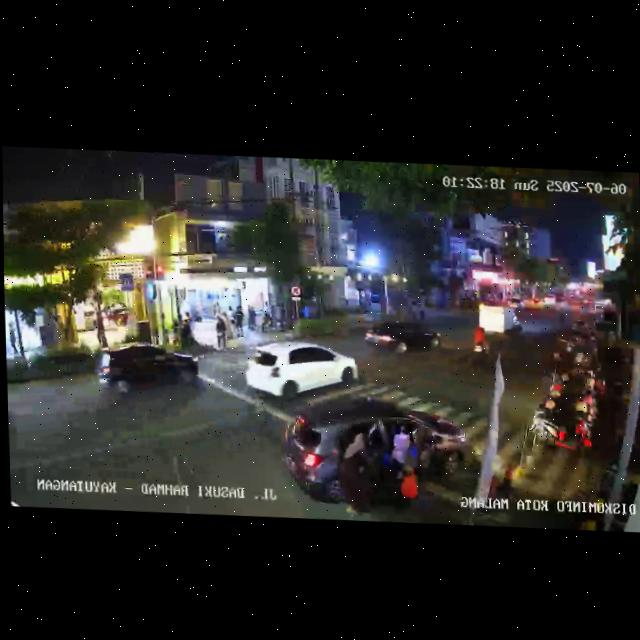car: (280, 393, 475, 513), (244, 336, 359, 408), (96, 339, 200, 401), (362, 317, 441, 359), (478, 304, 524, 341), (508, 296, 524, 309), (530, 298, 546, 311), (544, 293, 556, 306)
motorcycle: (472, 324, 491, 365)
person: (338, 429, 380, 520), (387, 432, 419, 518), (93, 312, 107, 348), (234, 304, 247, 339), (214, 314, 225, 354), (183, 311, 194, 342), (223, 310, 234, 341), (8, 321, 17, 357), (246, 303, 256, 331), (260, 312, 269, 335), (183, 319, 189, 346), (227, 304, 233, 330)
